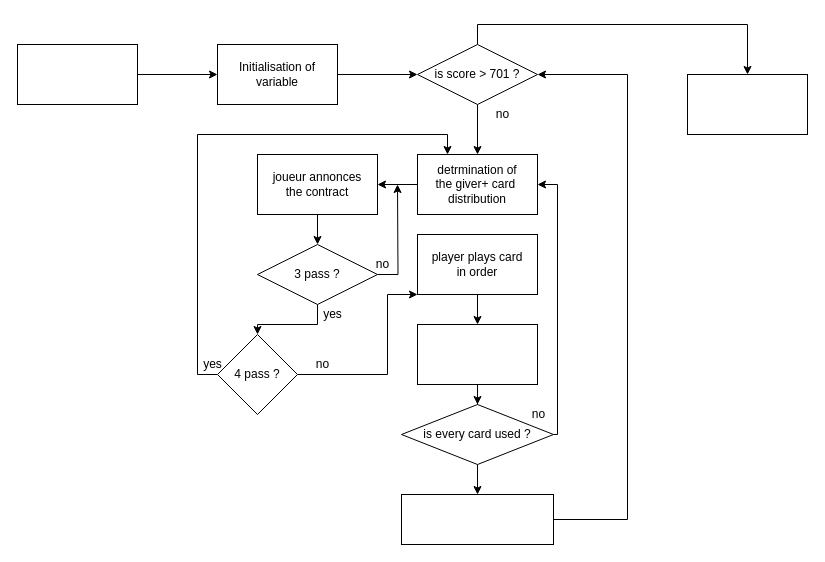
Image size: 825x562. Some labels were removed from this diagram. Each missing label, with the centre of its shape:
c la fin: point 747,104
compute final round score: point 477,519
get score of team + discard cards: point 477,354
Start: point 77,74
